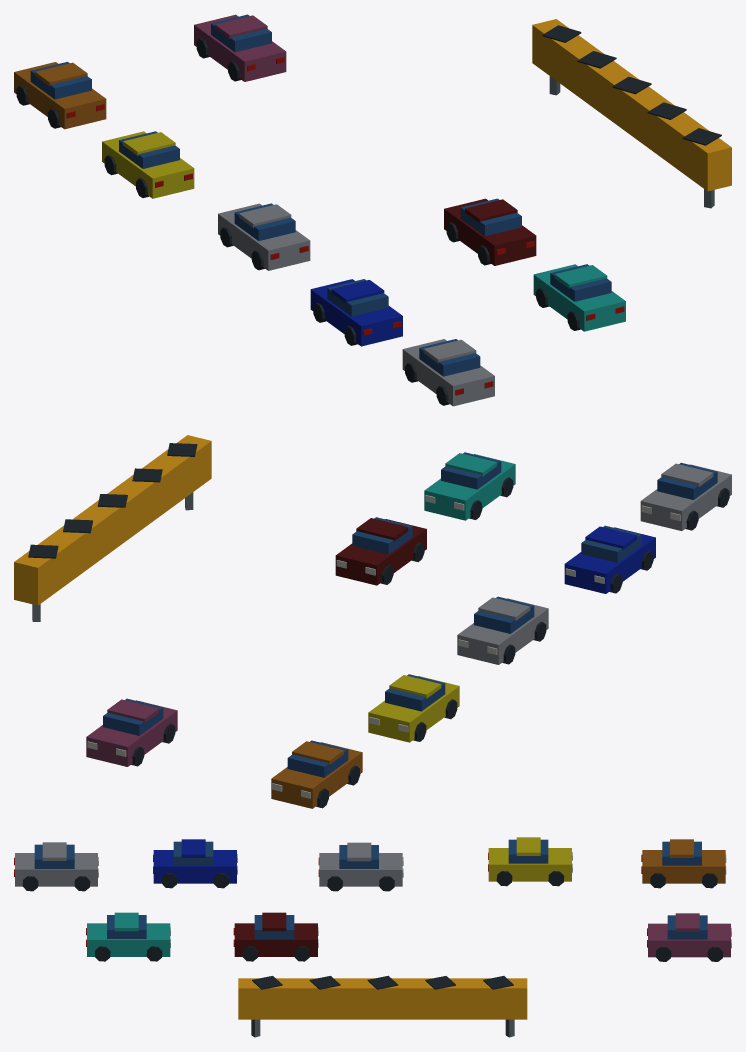
The model's file is cars_8.glb.
3 views of the same model, one above another, from view 1: azimuth 30°, elevation 25°; view 2: azimuth 150°, elevation 25°; view 3: azimuth 270°, elevation 25° (orthographic). The views are drawn at different scales.
Parts seen in each view (by area): view 1: cars_8; view 2: cars_8; view 3: cars_8.
Part boxes in pixels (box(x1,y1,x2,y2)): cars_8: box(14, 14, 731, 406); cars_8: box(14, 435, 731, 808); cars_8: box(14, 837, 731, 1037).
Bounding box in the file's own units: 35.67 × 5.1 × 62.11.
